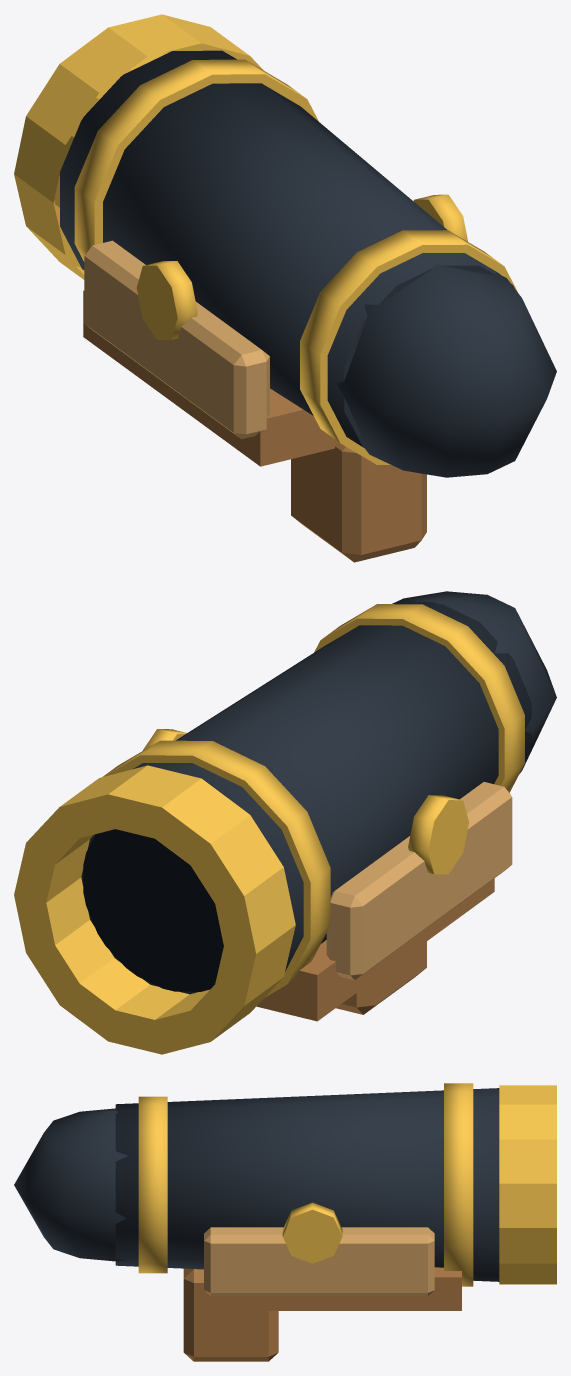
The model's file is fps_w_cannon.glb.
The picture shows the model from 3 angles, top to bottom: view 1: azimuth 30°, elevation 25°; view 2: azimuth 150°, elevation 25°; view 3: azimuth 270°, elevation 25°; orthographic projection. The views are drawn at different scales.
Visible parts, largest first — view 1: detail_Charcoal toy iron, detail_Warm gold bands, detail_End grain, muzzle_tip, grip, detail_Honey wood; view 2: detail_Charcoal toy iron, muzzle_tip, detail_Warm gold bands, Bore shadow, detail_End grain, detail_Honey wood, grip; view 3: detail_Charcoal toy iron, detail_End grain, detail_Warm gold bands, muzzle_tip, grip, detail_Honey wood.
Part boxes in pixels (x1,y1,x2,y2): detail_Charcoal toy iron: (60,50,556,477); detail_Warm gold bands: (74,59,517,464); detail_End grain: (84,240,269,439); muzzle_tip: (14,14,263,279); grip: (291,442,426,562); detail_Honey wood: (83,290,337,466); detail_Charcoal toy iron: (81,591,556,994); muzzle_tip: (14,765,295,1054); detail_Warm gold bands: (103,604,524,997); Bore shadow: (83,829,223,991); detail_End grain: (326,782,512,980); detail_Honey wood: (256,878,494,1021); grip: (336,941,426,1014); detail_Charcoal toy iron: (14,1088,499,1281); detail_End grain: (204,1227,434,1296); detail_Warm gold bands: (138,1083,473,1286); muzzle_tip: (499,1085,556,1284); grip: (183,1268,278,1361); detail_Honey wood: (204,1267,461,1310).
Bounding box in the file's own units: 0.361 × 0.42 × 0.8.
